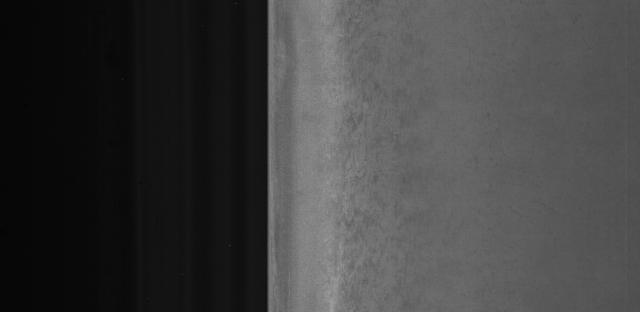silk_spot: (321, 14, 410, 268)
